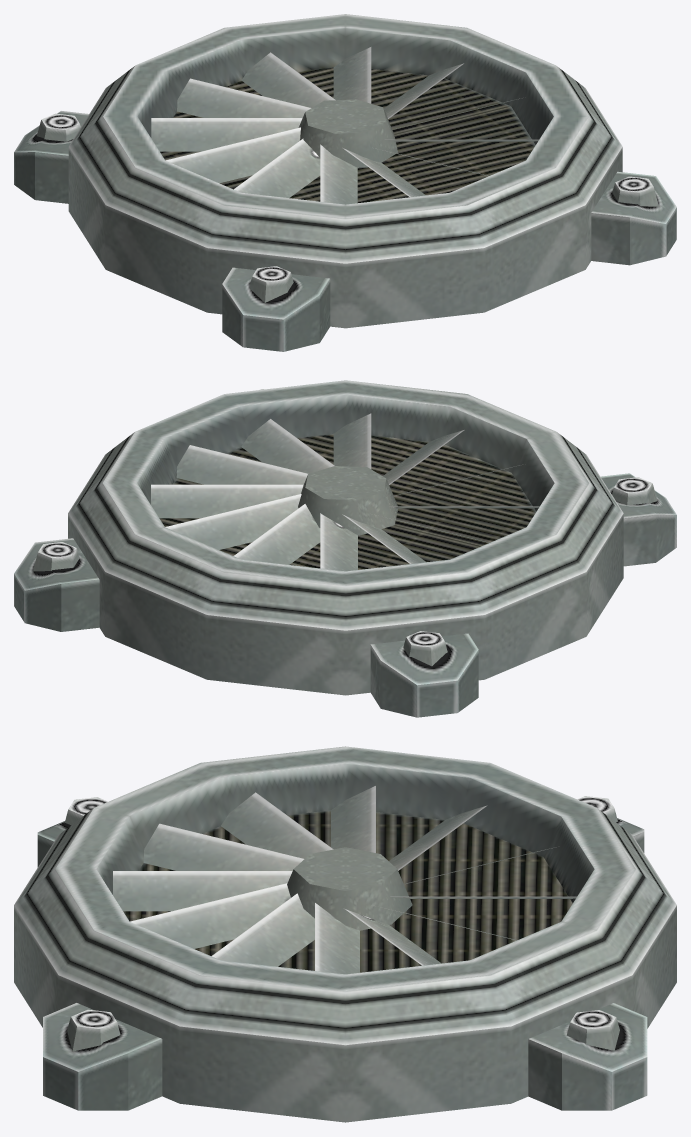
File: Vent_cylinder_lg.FBX
3 renders of one model, top to bottom at view 1: azimuth 30°, elevation 25°; view 2: azimuth 150°, elevation 25°; view 3: azimuth 270°, elevation 25°, orthographic. The views are drawn at different scales.
Visible parts, largest first — view 1: Vent_cylinder_lg; view 2: Vent_cylinder_lg; view 3: Vent_cylinder_lg.
Part boxes in pixels (left/top/right/bottom): Vent_cylinder_lg: left=14, top=14, right=676, bottom=351; Vent_cylinder_lg: left=14, top=380, right=676, bottom=717; Vent_cylinder_lg: left=14, top=746, right=676, bottom=1122.
Bounding box in the file's own units: 200 × 37.72 × 200.
